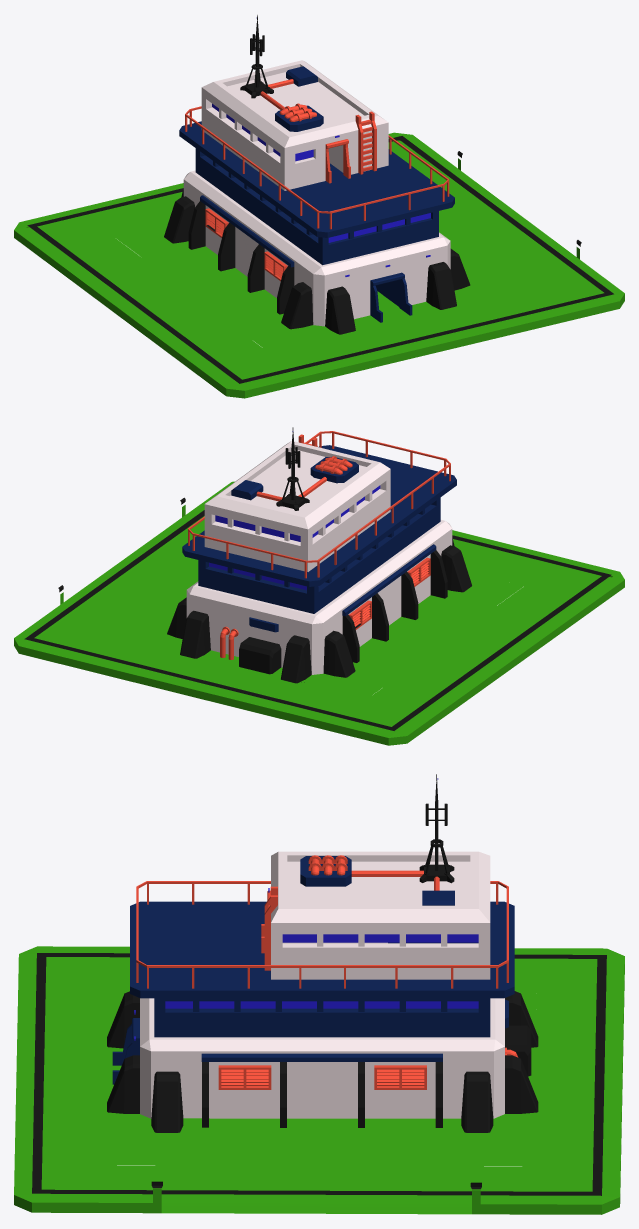
Rendered from farm 5.fbx.
3 renders of one model, top to bottom at view 1: azimuth 30°, elevation 25°; view 2: azimuth 150°, elevation 25°; view 3: azimuth 270°, elevation 25°, orthographic. The views are drawn at different scales.
Parts seen in each view (by area): view 1: FloorTile.011, Base, Blue, Base Support, FloorTileBoundry.011, Red, Tower, Window Blue, Windows; view 2: FloorTile.011, Base, Blue, Base Support, FloorTileBoundry.011, Red, Window Blue, Tower, Windows; view 3: FloorTile.011, Base, Blue, Base Support, FloorTileBoundry.011, Red, Window Blue, Windows, Tower.
Part boxes in pixels (bbox=[...]): FloorTile.011: bbox=[14, 132, 624, 398]; Base: bbox=[183, 60, 450, 326]; Blue: bbox=[179, 66, 454, 322]; Base Support: bbox=[164, 189, 470, 334]; FloorTileBoundry.011: bbox=[27, 136, 613, 383]; Red: bbox=[185, 79, 449, 229]; Tower: bbox=[240, 15, 273, 98]; Window Blue: bbox=[212, 17, 430, 276]; Windows: bbox=[205, 208, 287, 281]; FloorTile.011: bbox=[14, 481, 624, 745]; Base: bbox=[186, 441, 452, 674]; Blue: bbox=[182, 445, 456, 632]; Base Support: bbox=[167, 538, 471, 683]; FloorTileBoundry.011: bbox=[24, 497, 611, 730]; Red: bbox=[188, 431, 450, 659]; Window Blue: bbox=[209, 431, 380, 590]; Tower: bbox=[276, 427, 309, 510]; Windows: bbox=[349, 557, 430, 629]; FloorTile.011: bbox=[14, 946, 624, 1214]; Base: bbox=[140, 774, 504, 1118]; Blue: bbox=[112, 856, 514, 1084]; Base Support: bbox=[107, 991, 538, 1132]; FloorTileBoundry.011: bbox=[32, 953, 606, 1195]; Red: bbox=[136, 855, 518, 1057]; Window Blue: bbox=[134, 778, 478, 1040]; Windows: bbox=[218, 1065, 426, 1089]; Tower: bbox=[419, 774, 454, 883].
Size of the model in its own units: 409487 by 221588 by 408556.
